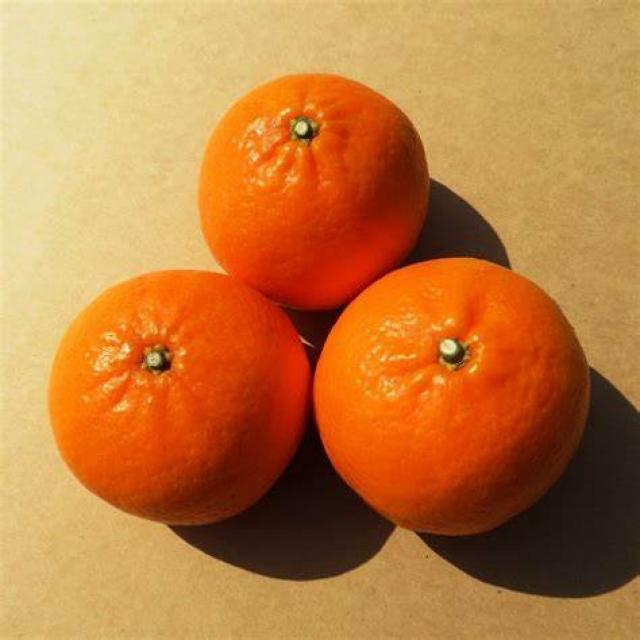Orange: (317, 254, 588, 534), (51, 265, 312, 528), (204, 73, 433, 313)
